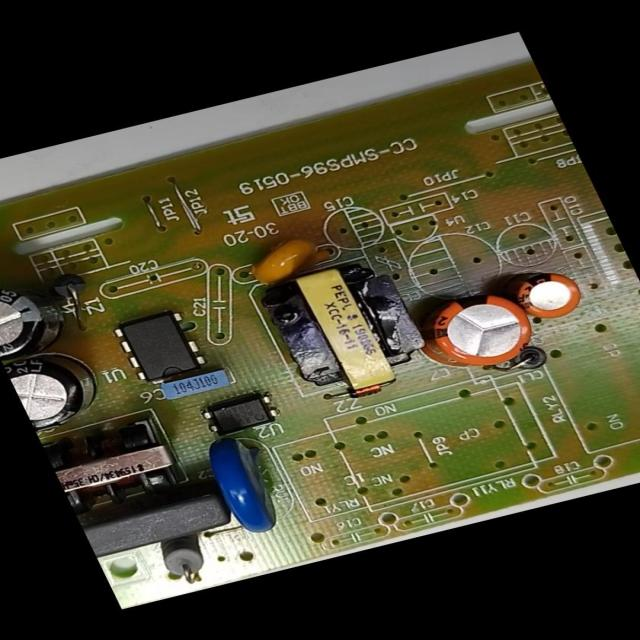Cap1: (394, 275, 552, 388)
Cap2: (495, 255, 597, 329)
Cap3: (0, 339, 120, 431)
Cap4: (0, 263, 98, 365)
MOSFET: (96, 302, 216, 392)
Mov: (191, 427, 305, 541)
Resistor: (144, 535, 216, 590)
Transformer: (239, 247, 441, 408), (39, 411, 192, 519)
